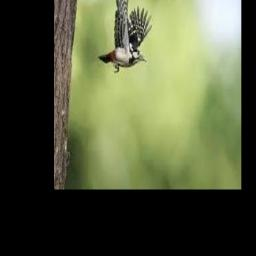Woodpecker: (99, 0, 153, 73)
